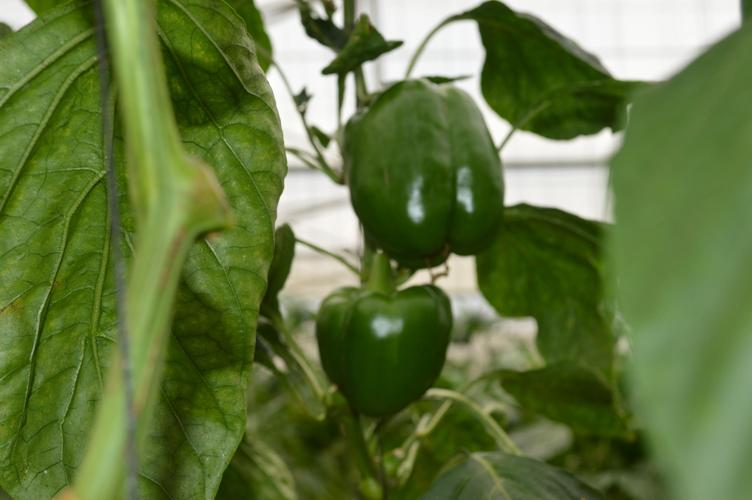BellPepper: (341, 79, 501, 266), (317, 285, 454, 416)
